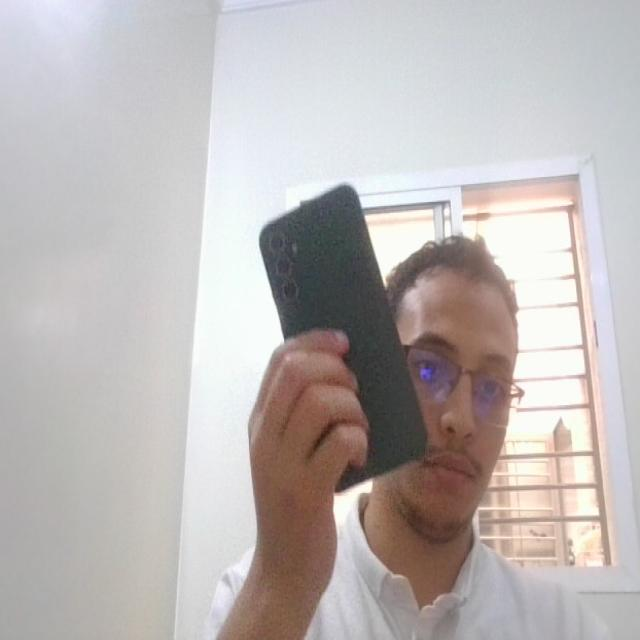phone: (250, 179, 435, 501)
